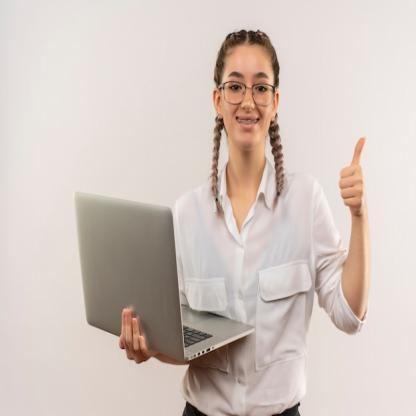thumb_up: (334, 132, 371, 216)
